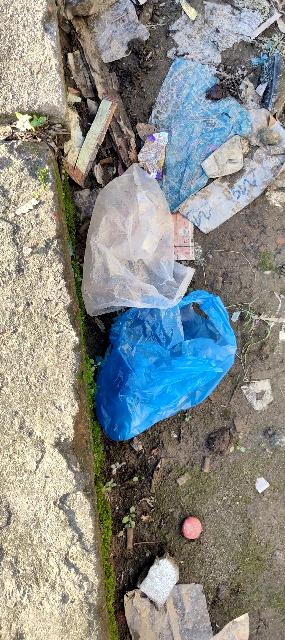polythene: (59, 150, 273, 455)
